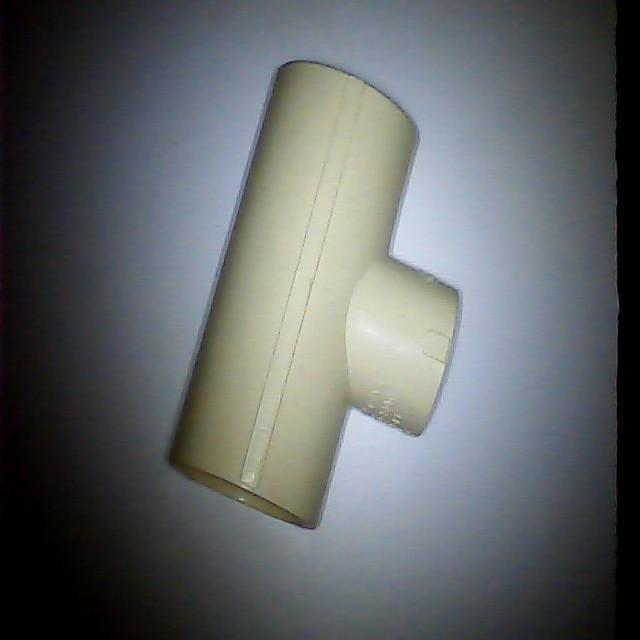T Joint: (166, 61, 462, 532)
